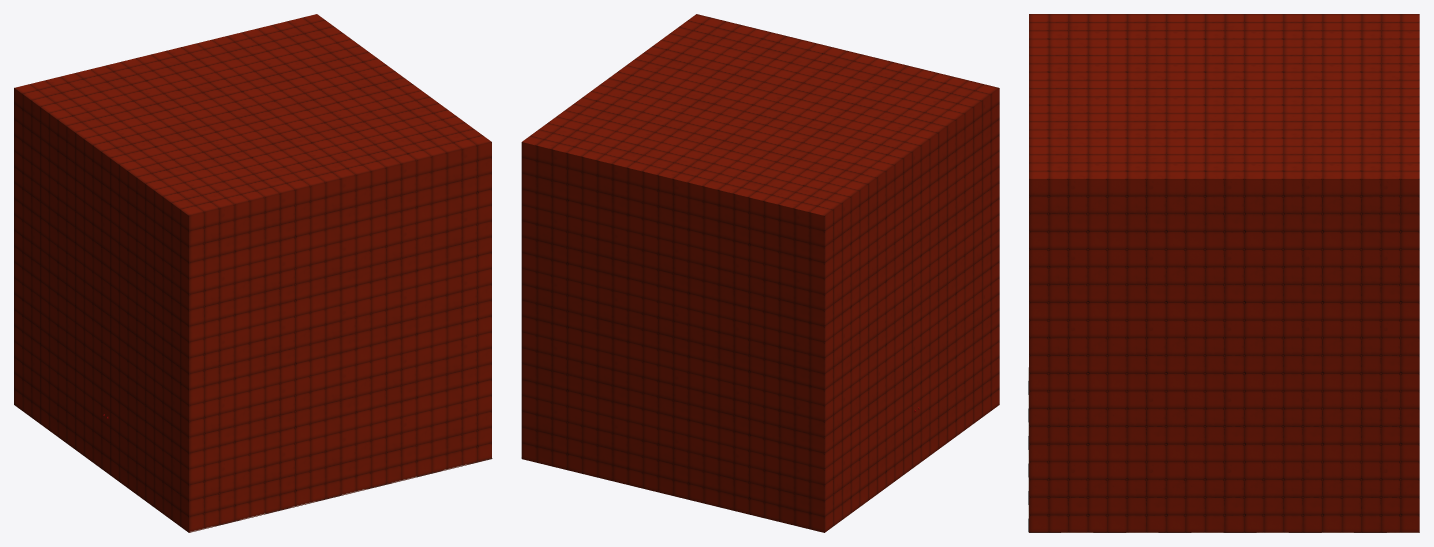
The model's file is cellule-fbx.FBX.
3 renders of one model, left to right at view 1: azimuth 30°, elevation 25°; view 2: azimuth 150°, elevation 25°; view 3: azimuth 270°, elevation 25°, orthographic. The views are drawn at different scales.
Parts seen in each view (by area): view 1: cellule; view 2: cellule; view 3: cellule, Plane001.
Boxes of the visible parts, x1,y1,x2,y2 form: cellule: (14,14,491,532); cellule: (521,14,999,532); cellule: (1029,14,1419,532); Plane001: (1028,367,1418,532).
Bounding box in the file's own units: 396 × 394 × 395.
